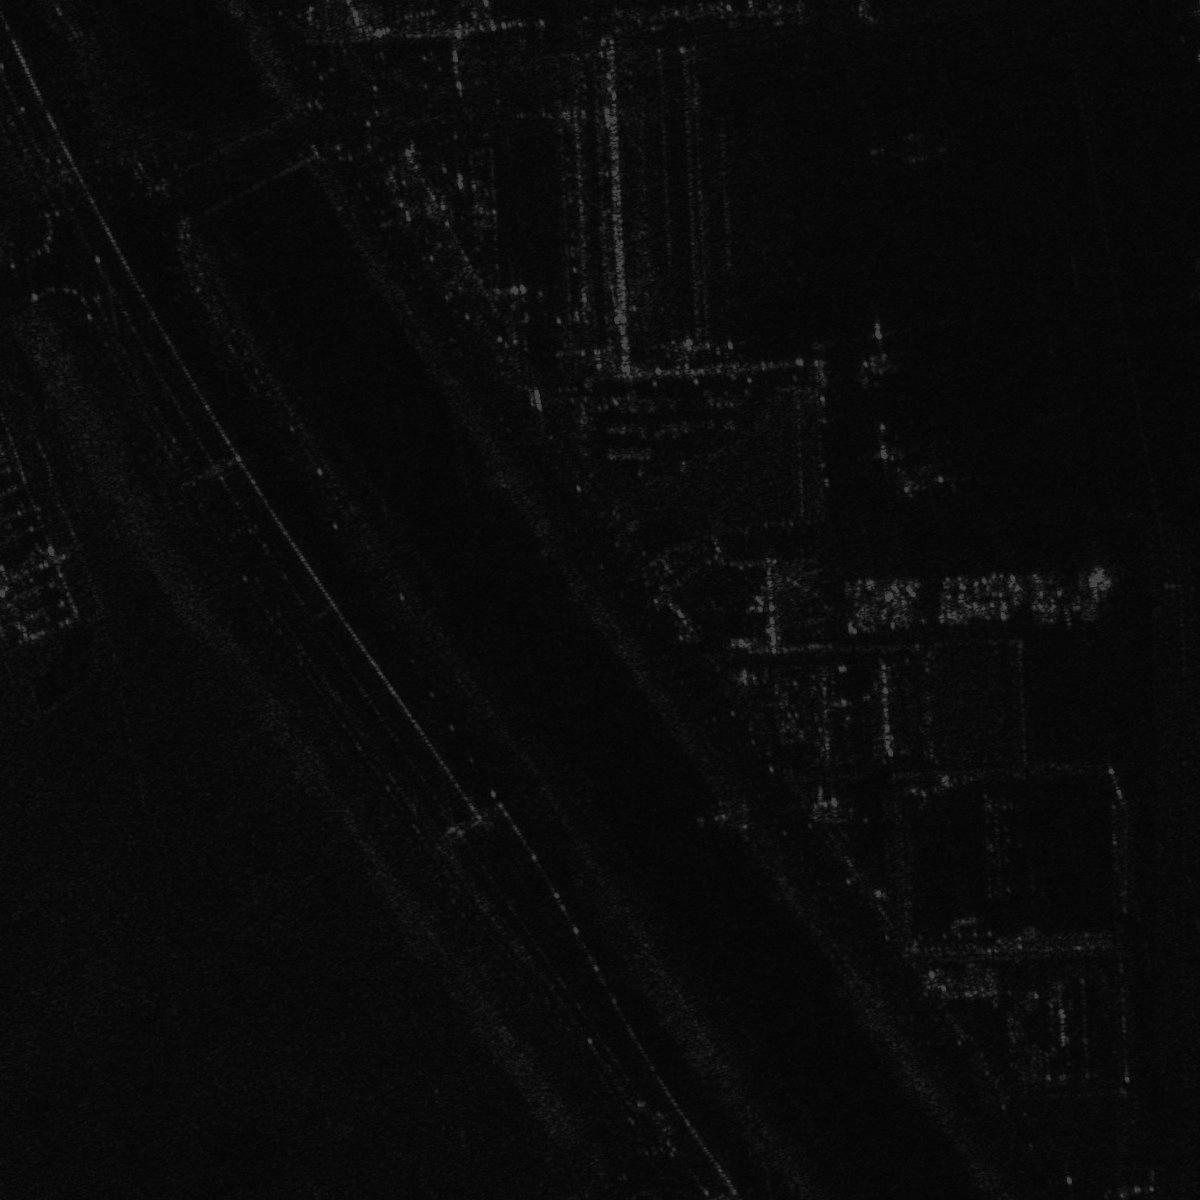A220: (851, 318, 902, 375), (862, 419, 907, 473)
other: (884, 469, 949, 503)
